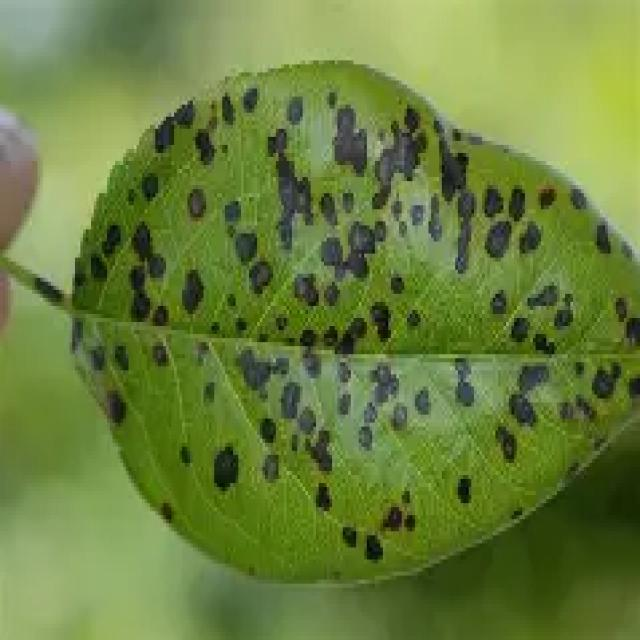leaf_spot: (0, 56, 637, 580)
